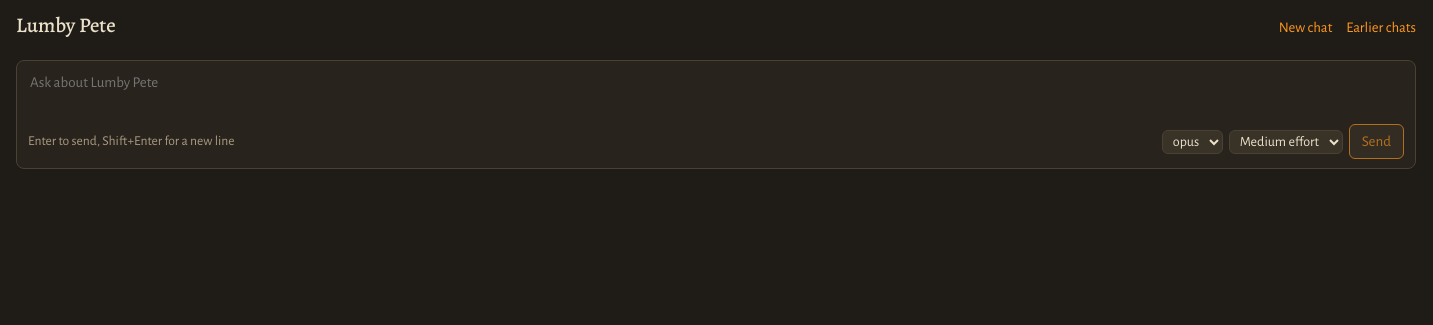
ChatColumn › says why a message was refused, and when an answer was cut off
The width and height of the screenshot is (1433, 325).
In the text box named "Message": [716, 94] box [28,70,1404,118], type "Hi"
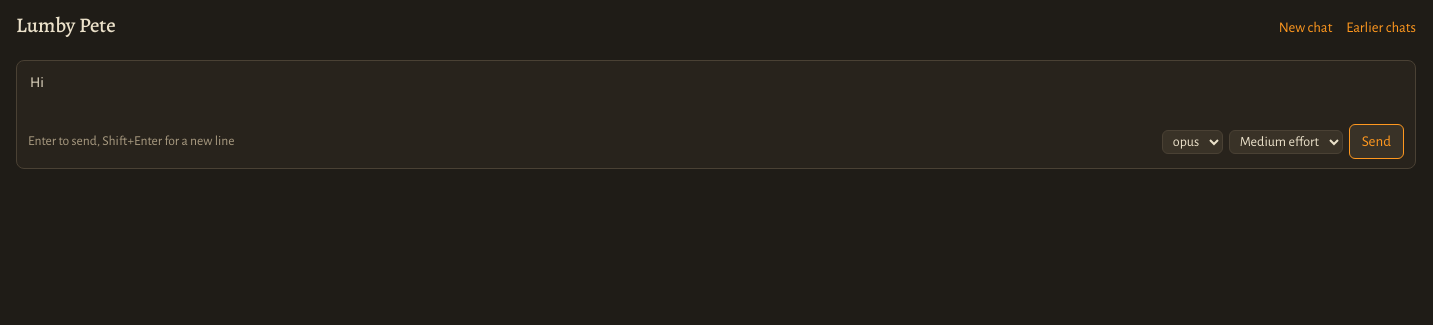
Press Enter in the text box named "Message", box [28,70,1404,118]
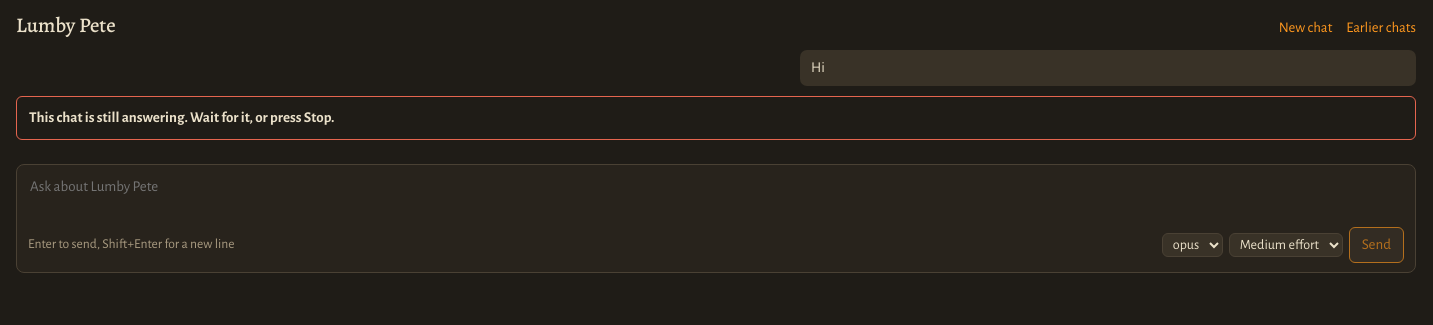
Now the message reads "This chat is still answering. Wait for it, or press Stop.", box [29,110,334,125]
In the text box named "Message": [716, 197] box [28,174,1404,221], type "Hi again"
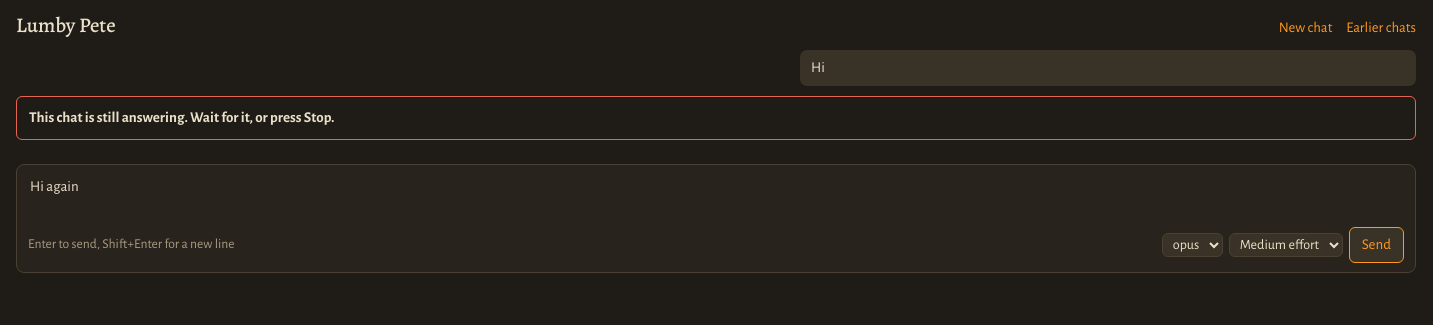
Press Enter in the text box named "Message", box [28,174,1404,221]
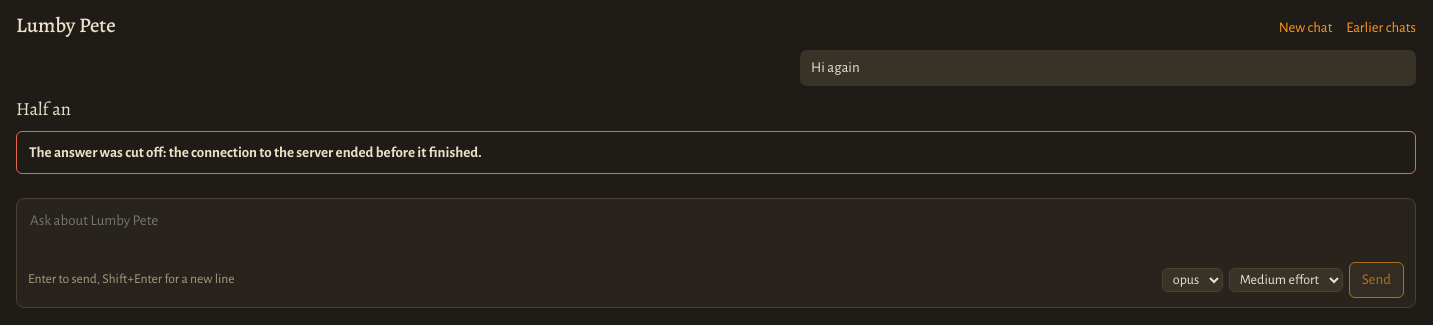
Now the text "Hi again" is shown, box [800,50,1416,86]
Now the message reads "The answer was cut off: the connection to the server ended before it finished.", box [29,145,482,160]
